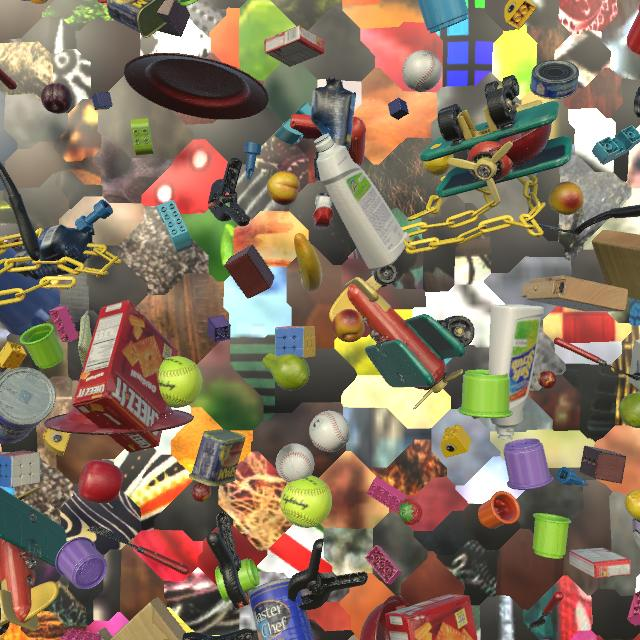ycb_002_master_chef_can: (0, 367, 56, 444), (248, 578, 314, 640), (0, 451, 2, 454)
ycb_003_cracker_box: (72, 301, 178, 453), (385, 594, 478, 640)
ycb_004_sugar_box: (629, 339, 640, 390)
ycb_007_tuna_fish_can: (530, 60, 579, 99)
ycb_009_gelatin_box: (264, 25, 325, 67), (568, 548, 631, 579)
ycb_010_potted_meat_can: (189, 429, 246, 486), (107, 0, 167, 38)
ycb_011_banana: (294, 233, 322, 292)
ycb_012_strawberry: (398, 499, 423, 525)
ycb_013_apple: (78, 460, 124, 503)
ycb_014_lemon: (423, 144, 453, 176), (624, 490, 640, 520)
ycb_015_peach: (548, 182, 584, 215), (332, 309, 365, 342), (267, 171, 299, 205)
ycb_016_pear: (263, 353, 310, 390), (619, 390, 640, 428)
ycb_018_plum: (41, 83, 72, 114)
